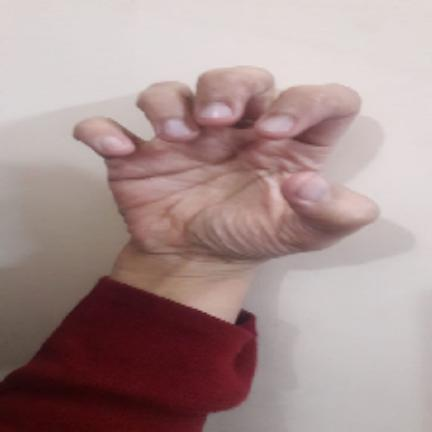Nail: (299, 176, 330, 201), (164, 117, 193, 139), (99, 136, 128, 156), (259, 116, 292, 132), (201, 103, 231, 118)
